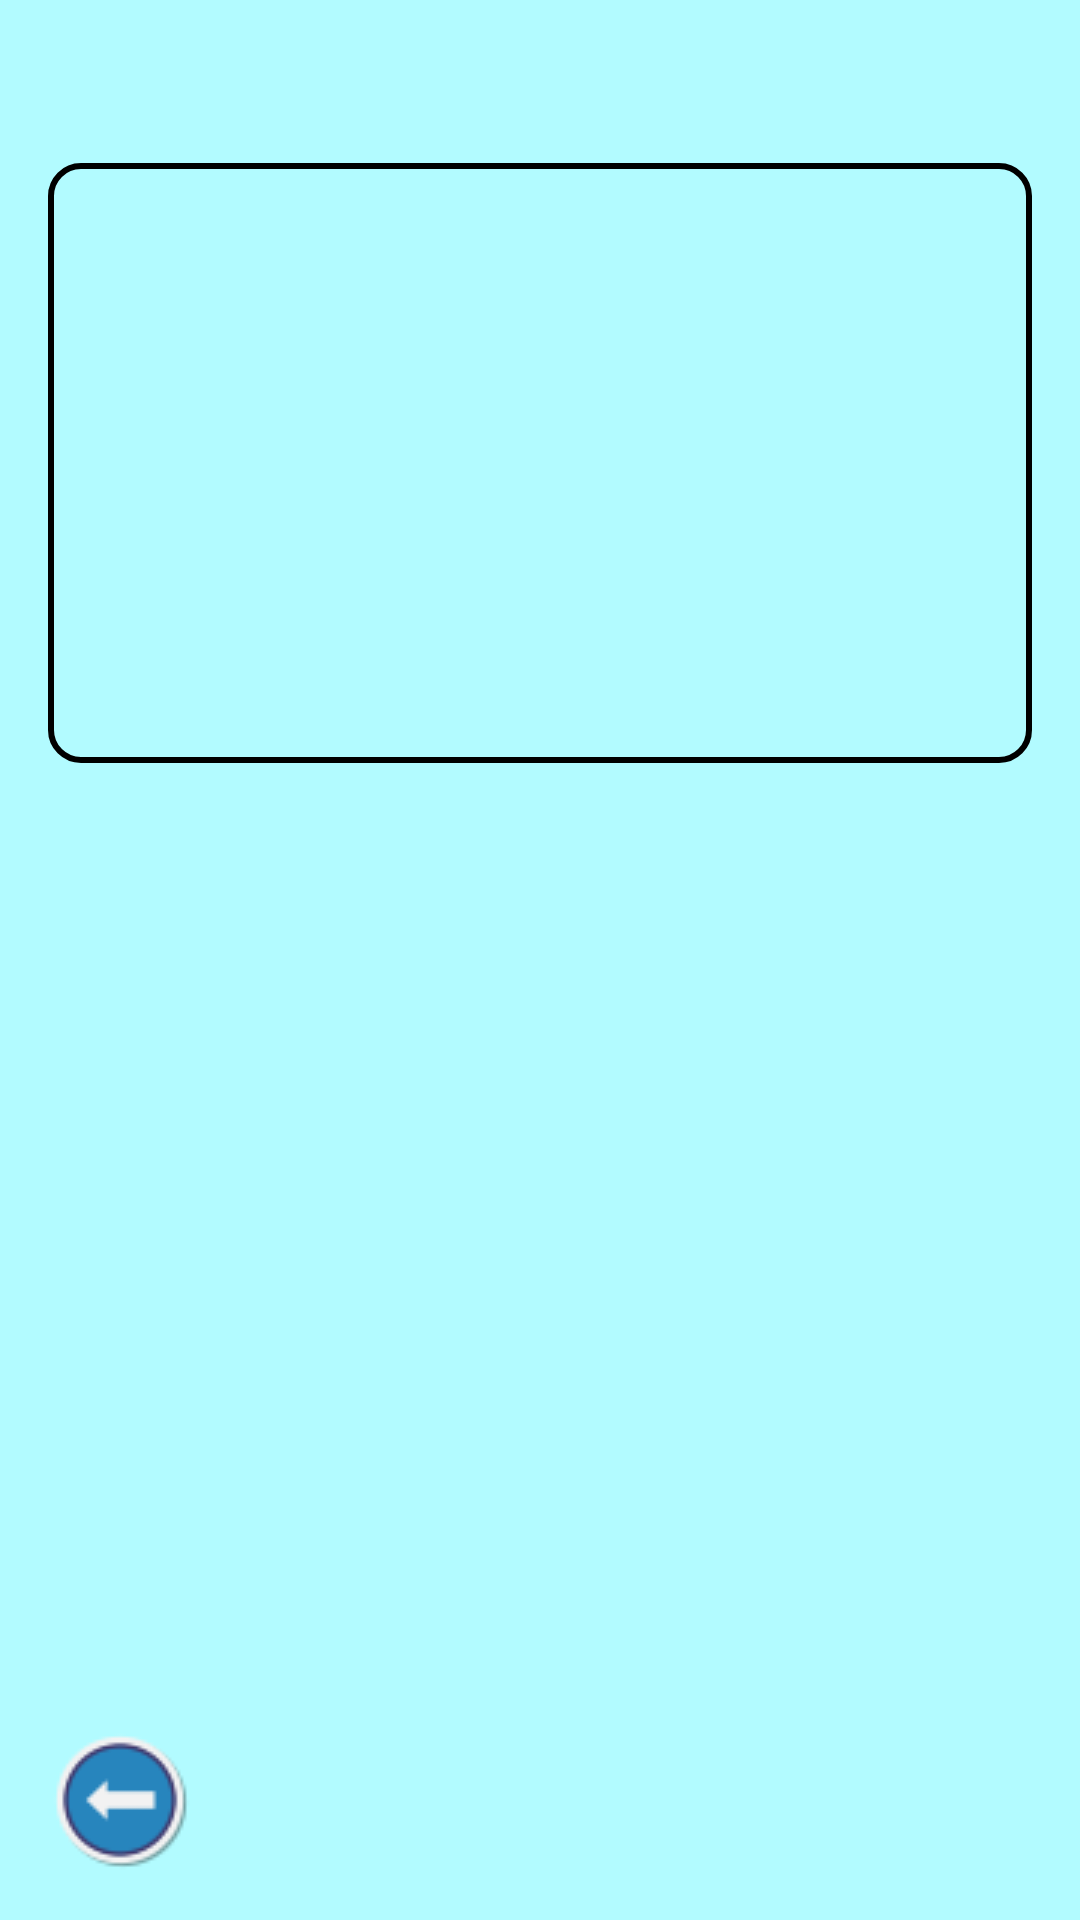

Where to tap for icons on this 1080w x 1920h app screen, as (x,y):
back: (121,1801)
